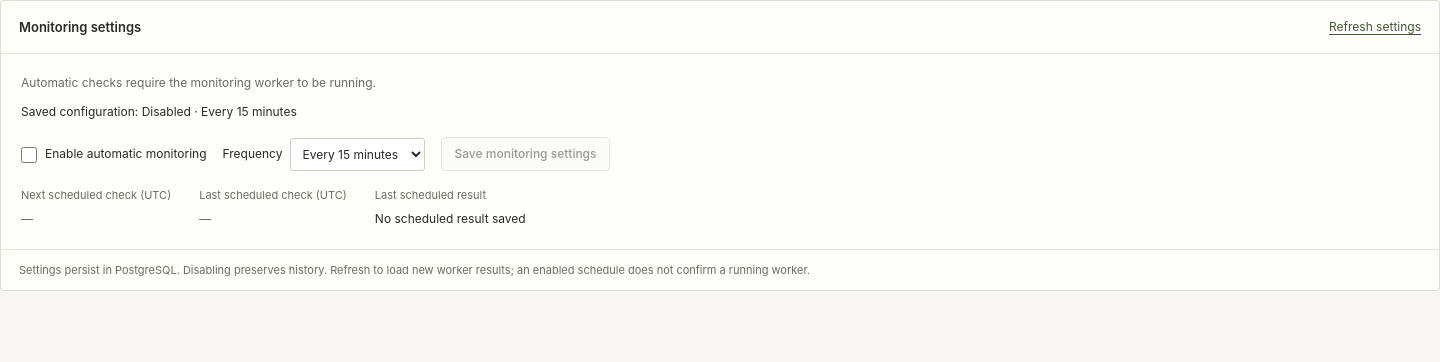
it: persisted monitoring settings › detects a concurrent configuration update and does not overwrite it
Expected: the text "Saved configuration: Disabled · Every 15 minutes" is shown, [21,104,297,119]
Select "Every 60 minutes" in the dropdown labelled "Frequency" at (358, 154), box [290,138,426,171]
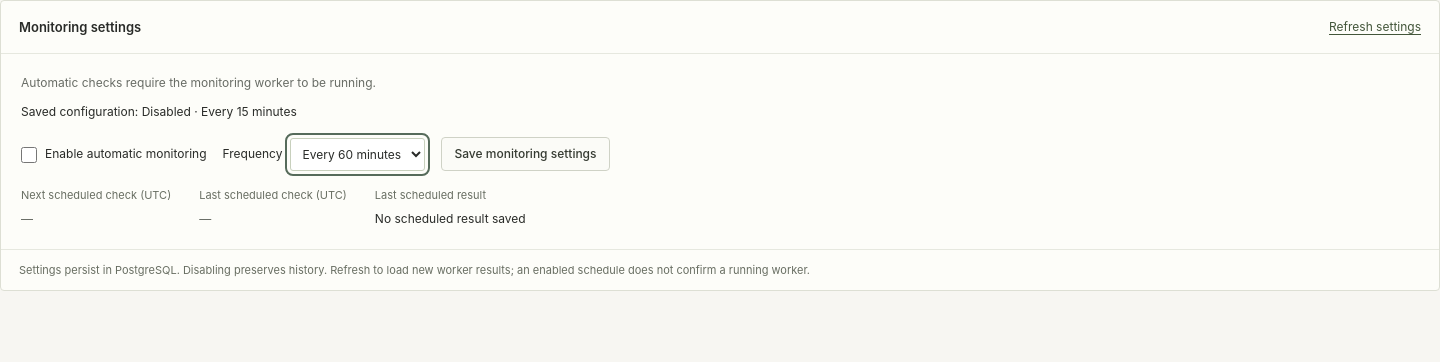
Click the button "Save monitoring settings" at (526, 154), box [442,137,610,171]
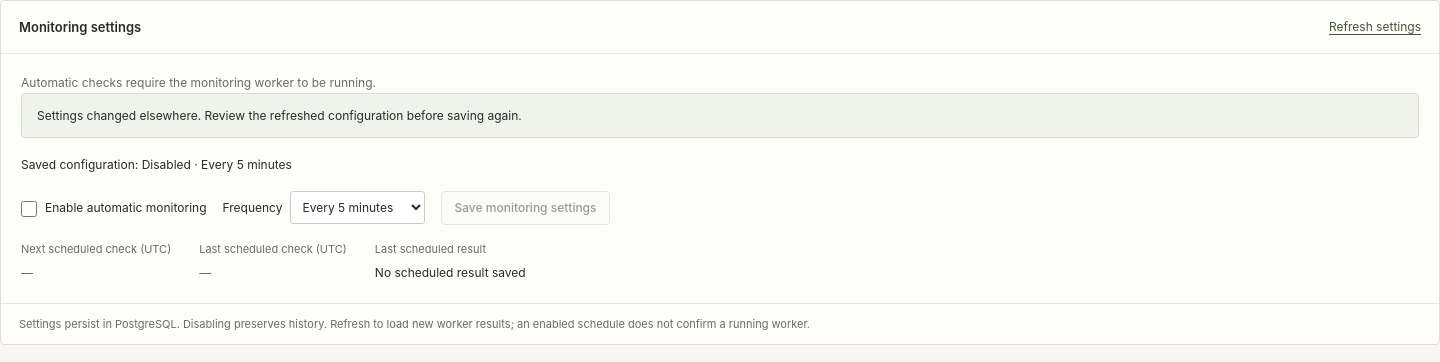
Now the text "Settings changed elsewhere" is shown, box [37,108,522,123]
